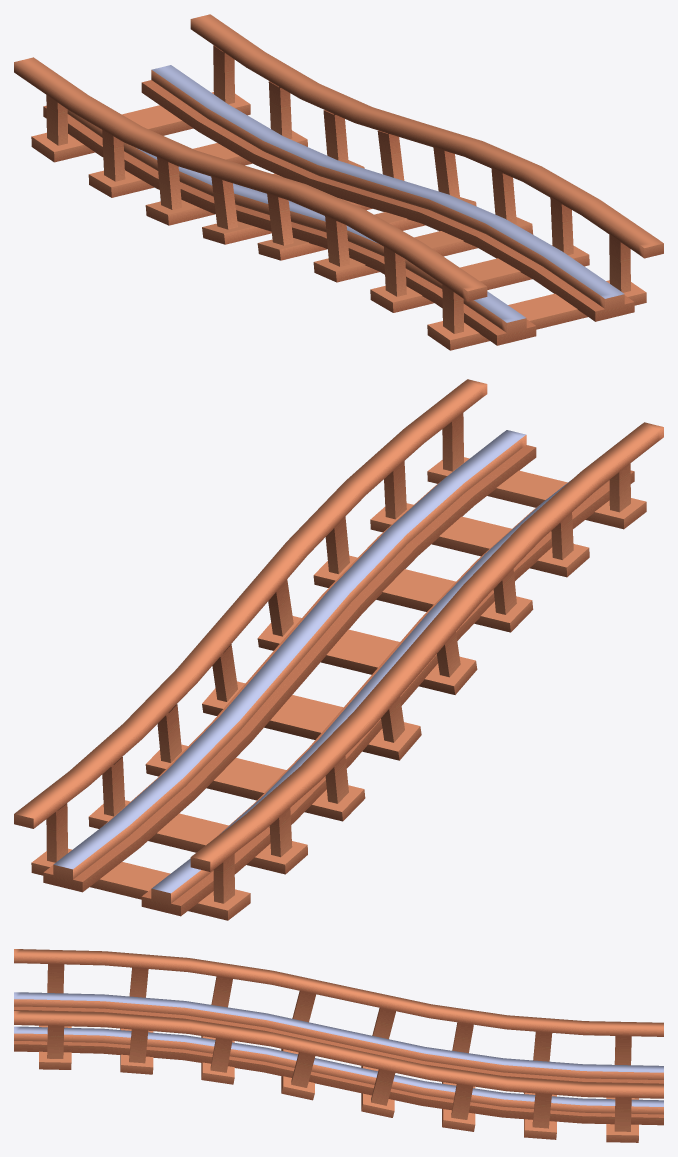
File: coaster-wood-straight-hill-complete-half.glb
The picture shows the model from 3 angles, top to bottom: view 1: azimuth 30°, elevation 25°; view 2: azimuth 150°, elevation 25°; view 3: azimuth 270°, elevation 25°; orthographic projection. The views are drawn at different scales.
Parts seen in each view (by area): view 1: coaster-wood-straight-hill-complete-half; view 2: coaster-wood-straight-hill-complete-half; view 3: coaster-wood-straight-hill-complete-half.
Part boxes in pixels (x1=…): coaster-wood-straight-hill-complete-half: x1=14, y1=14, x2=663, y2=350; coaster-wood-straight-hill-complete-half: x1=14, y1=379, x2=663, y2=920; coaster-wood-straight-hill-complete-half: x1=14, y1=949, x2=663, y2=1142.
Bounding box in the file's own units: 3 × 2.55 × 12.
Materials: 1 (1 with a texture image).
